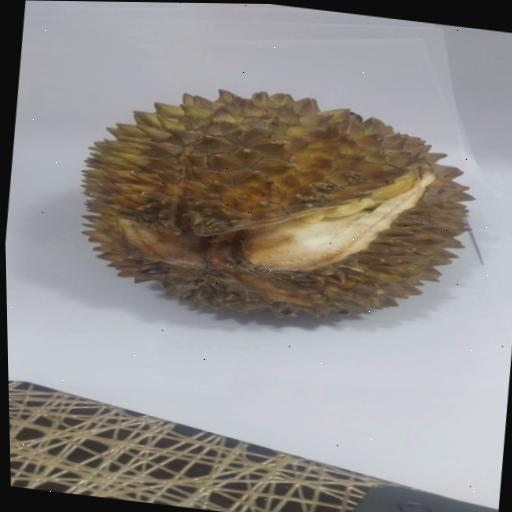rot: (46, 61, 508, 368)
